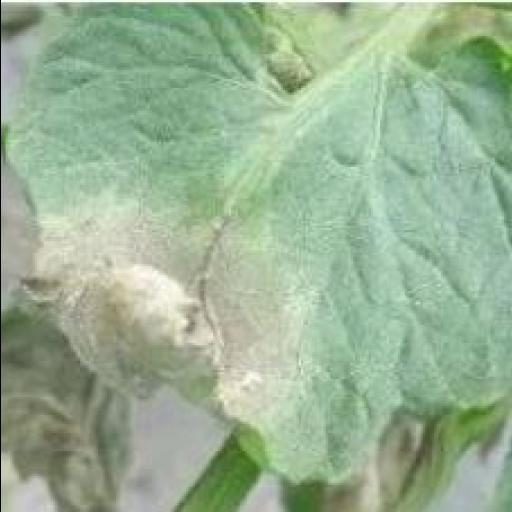disease_tomato: (0, 6, 512, 486)
